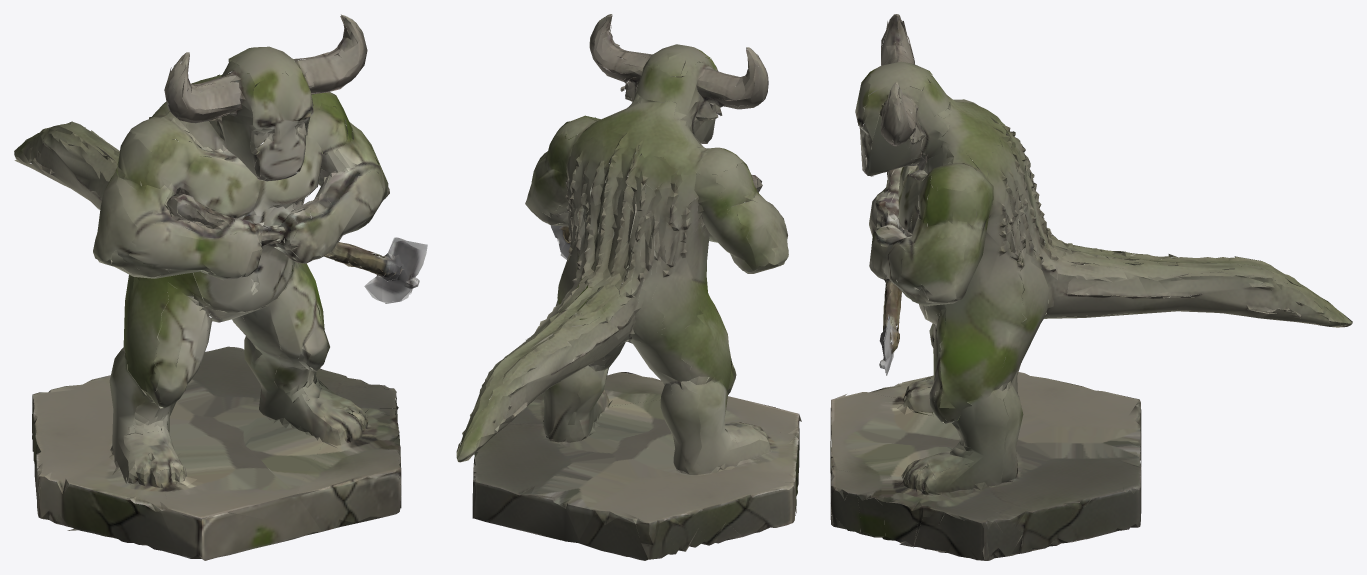
File: Lab_Minotaur.glb
3 views of the same model, side by side, from view 1: azimuth 30°, elevation 25°; view 2: azimuth 150°, elevation 25°; view 3: azimuth 270°, elevation 25° (orthographic). The views are drawn at different scales.
Parts seen in each view (by area): view 1: Lab_Minotaur; view 2: Lab_Minotaur; view 3: Lab_Minotaur.
Boxes of the visible parts, x1=… form: Lab_Minotaur: x1=14, y1=14, x2=427, y2=560; Lab_Minotaur: x1=456, y1=14, x2=801, y2=560; Lab_Minotaur: x1=830, y1=14, x2=1352, y2=560.
Size of the model in its own units: 2.5 by 3.22 by 3.48.
1 material, 1 textured.
